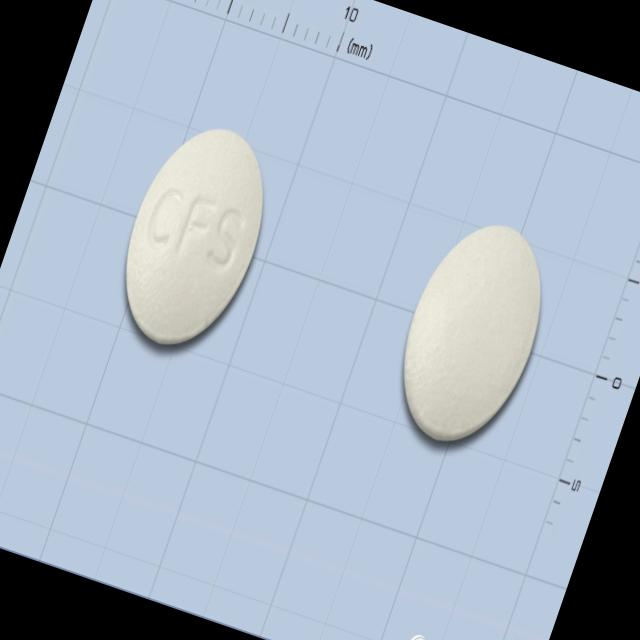Ciproxin: (96, 103, 296, 370)
